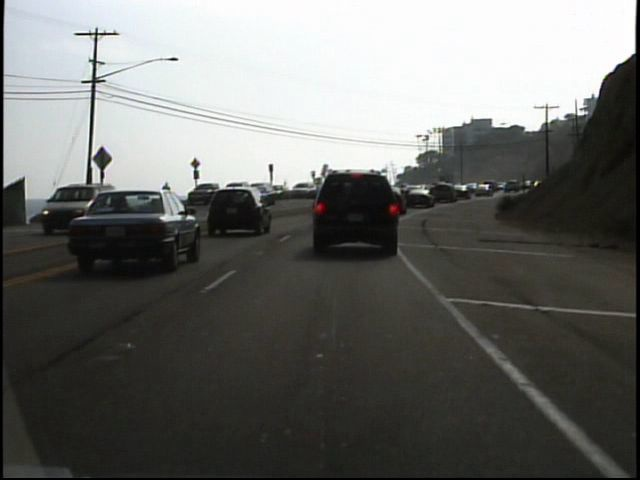person: (159, 179, 175, 210)
